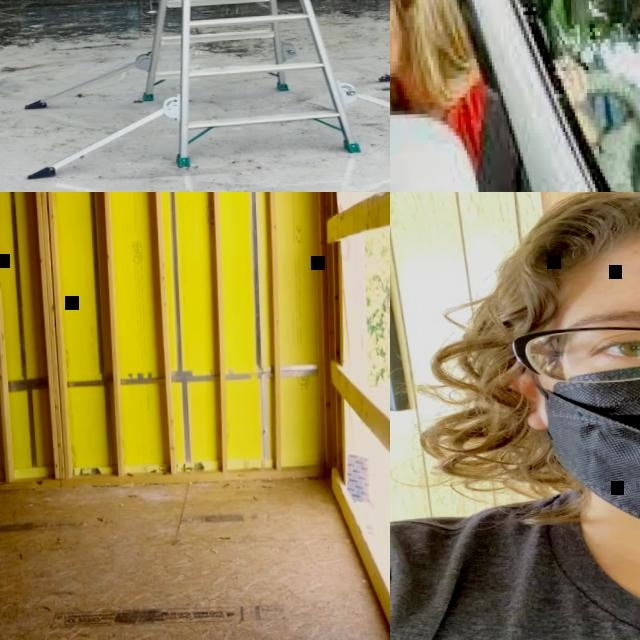Mask: (527, 350, 640, 537)
NO-Hardhat: (501, 192, 640, 302)
NO-Mask: (390, 29, 407, 79)
NO-Safety Vest: (390, 495, 640, 640)
Person: (390, 192, 640, 640), (390, 0, 592, 168), (586, 0, 640, 192)
vehicle: (390, 0, 640, 192)
